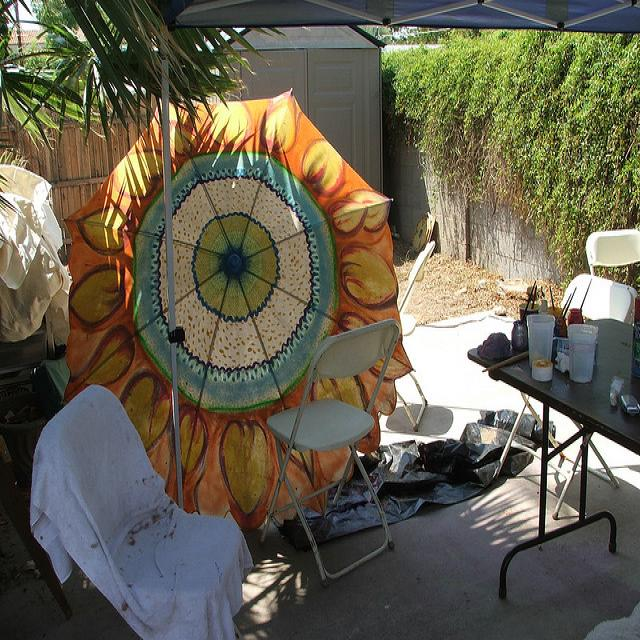chair: (28, 385, 253, 640), (259, 317, 401, 588), (395, 241, 433, 432), (561, 273, 636, 324), (586, 229, 639, 274)
dining table: (494, 351, 640, 607)
